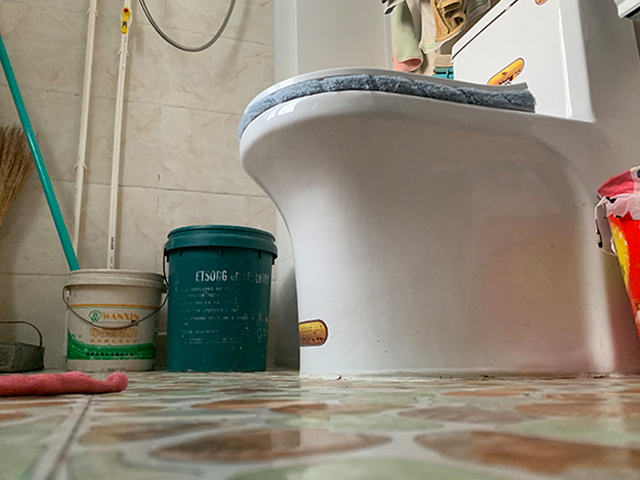closestool: (238, 1, 640, 379)
